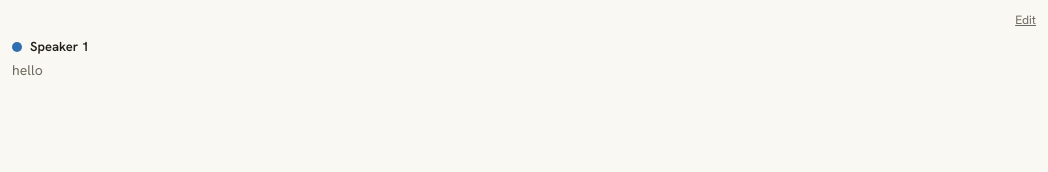
Test: TranscriptEditor edit mode (#168) › leaves edit mode when Done is clicked
Click the button "Edit" at [1026, 20], box [1015,12,1036,28]
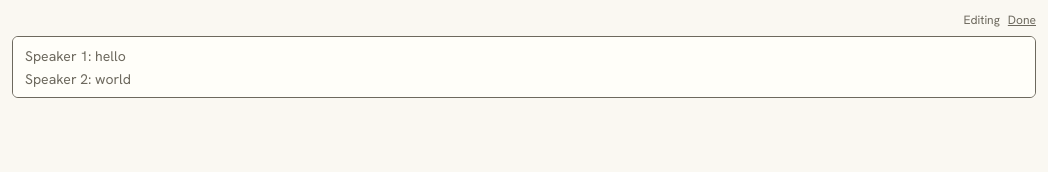
Click the button "Done" at [1022, 20], box [1008,12,1036,28]
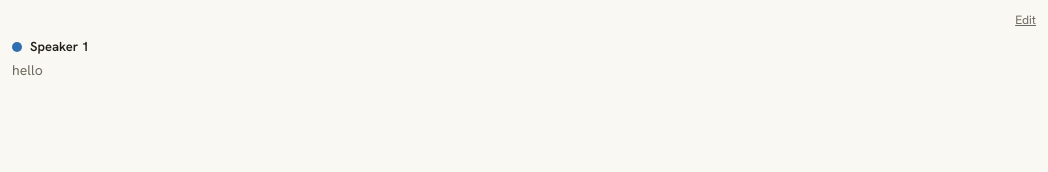
Expected: the button "Edit" is shown, [1015,12,1036,28]
